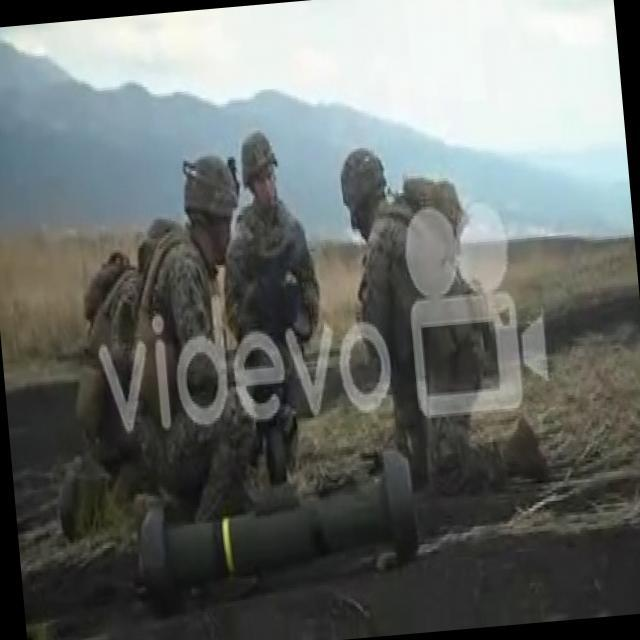rocket: (136, 444, 420, 618)
